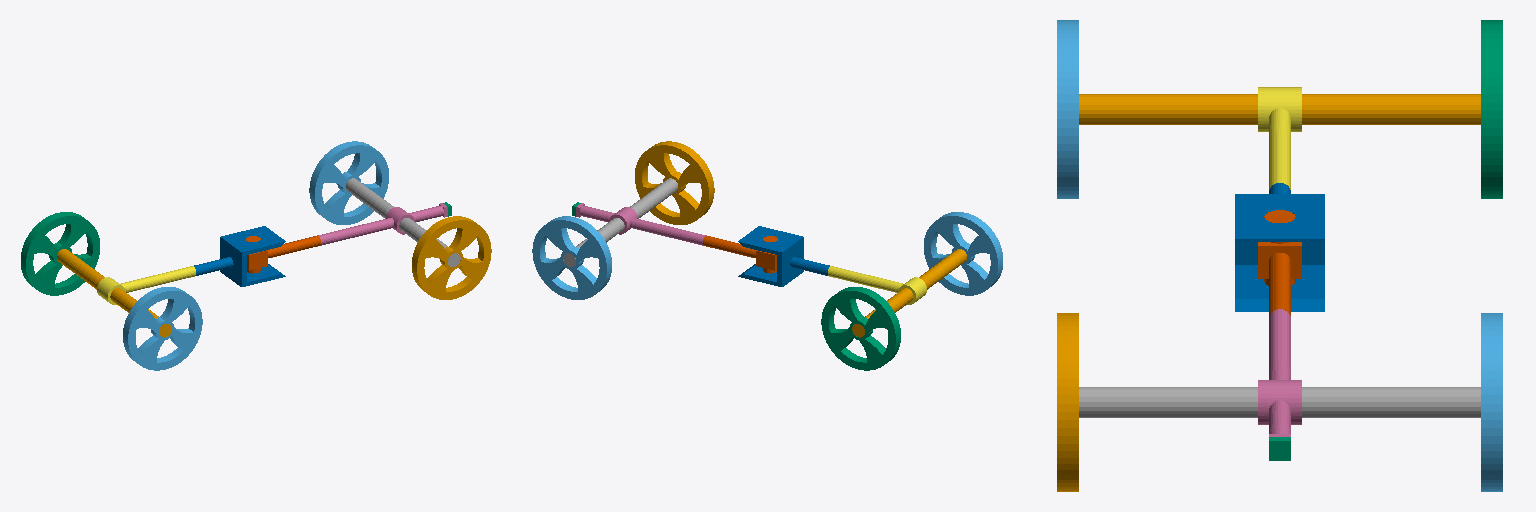
The robot description file, URDF, robot "carenv":
<?xml version="1.0" ?>
<robot name="carenv">

<material name="silver">
  <color rgba="0.700 0.700 0.700 1.000"/>
</material>

<link name="base_link">
  <inertial>
    <origin xyz="-0.7999999999999998 0.0 0.19999999999999996" rpy="0 0 0"/>
    <mass value="32.673348995497264"/>
    <inertia ixx="2.7327852960879753" iyy="0.02001242625974342" izz="2.732785296087979" ixy="1.5813857316970824e-15" iyz="-7.906928658485412e-16" ixz="8.881784197001252e-16"/>
  </inertial>
  <visual>
    <origin xyz="0 0 0" rpy="0 0 0"/>
    <geometry>
      <mesh filename="meshes/base_link.stl" scale="0.001 0.001 0.001"/>
    </geometry>
    <material name="silver"/>
    <material/>
  </visual>
  <collision>
    <origin xyz="0 0 0" rpy="0 0 0"/>
    <geometry>
      <mesh filename="meshes/base_link.stl" scale="0.001 0.001 0.001"/>
    </geometry>
  </collision>
</link>

<link name="bl1">
  <inertial>
    <origin xyz="0.0 0.02499999999999991 -8.326672684688674e-17" rpy="0 0 0"/>
    <mass value="3.6246121411945738"/>
    <inertia ixx="0.044782987106522065" iyy="0.08805571915421684" izz="0.04478298710652595" ixy="0.0" iyz="0.0" ixz="1.1102230246251565e-16"/>
  </inertial>
  <visual>
    <origin xyz="0.8 0.5 -0.2" rpy="0 0 0"/>
    <geometry>
      <mesh filename="meshes/bl1.stl" scale="0.001 0.001 0.001"/>
    </geometry>
    <material name="silver"/>
    <material/>
  </visual>
  <collision>
    <origin xyz="0.8 0.5 -0.2" rpy="0 0 0"/>
    <geometry>
      <mesh filename="meshes/bl1.stl" scale="0.001 0.001 0.001"/>
    </geometry>
  </collision>
</link>

<link name="br1">
  <inertial>
    <origin xyz="0.0 -0.025000000000000022 -8.326672684688674e-17" rpy="0 0 0"/>
    <mass value="3.6246121411945738"/>
    <inertia ixx="0.04478298710652229" iyy="0.08805571915421684" izz="0.04478298710652551" ixy="0.0" iyz="-5.551115123125783e-17" ixz="1.1102230246251565e-16"/>
  </inertial>
  <visual>
    <origin xyz="0.8 -0.5 -0.2" rpy="0 0 0"/>
    <geometry>
      <mesh filename="meshes/br1.stl" scale="0.001 0.001 0.001"/>
    </geometry>
    <material name="silver"/>
    <material/>
  </visual>
  <collision>
    <origin xyz="0.8 -0.5 -0.2" rpy="0 0 0"/>
    <geometry>
      <mesh filename="meshes/br1.stl" scale="0.001 0.001 0.001"/>
    </geometry>
  </collision>
</link>

<link name="j11">
  <inertial>
    <origin xyz="0.16055339778671573 -3.887514700933762e-08 5.551115123125783e-17" rpy="0 0 0"/>
    <mass value="8.49634453691667"/>
    <inertia ixx="0.0068831522816594215" iyy="0.19178670589433677" izz="0.19149688772306295" ixy="-5.803203460294708e-09" iyz="-2.6469779601696886e-23" ixz="-4.440892098500626e-16"/>
  </inertial>
  <visual>
    <origin xyz="0.8 -0.0 -0.2" rpy="0 0 0"/>
    <geometry>
      <mesh filename="meshes/j11.stl" scale="0.001 0.001 0.001"/>
    </geometry>
    <material name="silver"/>
    <material/>
  </visual>
  <collision>
    <origin xyz="0.8 -0.0 -0.2" rpy="0 0 0"/>
    <geometry>
      <mesh filename="meshes/j11.stl" scale="0.001 0.001 0.001"/>
    </geometry>
  </collision>
</link>

<link name="j21">
  <inertial>
    <origin xyz="0.2547657567768827 7.582384410019072e-17 2.7755575615628914e-17" rpy="0 0 0"/>
    <mass value="7.772654812516621"/>
    <inertia ixx="0.05643334857808685" iyy="0.10040470339408475" izz="0.09156811963248819" ixy="-3.058793446014534e-17" iyz="4.7148205339908604e-17" ixz="-8.326672684688674e-17"/>
  </inertial>
  <visual>
    <origin xyz="0.36 -0.0 -0.2" rpy="0 0 0"/>
    <geometry>
      <mesh filename="meshes/j21.stl" scale="0.001 0.001 0.001"/>
    </geometry>
    <material name="silver"/>
    <material/>
  </visual>
  <collision>
    <origin xyz="0.36 -0.0 -0.2" rpy="0 0 0"/>
    <geometry>
      <mesh filename="meshes/j21.stl" scale="0.001 0.001 0.001"/>
    </geometry>
  </collision>
</link>

<link name="j31">
  <inertial>
    <origin xyz="0.06641306804789343 0.0 -0.09000000000000002" rpy="0 0 0"/>
    <mass value="4.789513051054657"/>
    <inertia ixx="0.008373824415166126" iyy="0.06254572119280657" izz="0.05890534413714747" ixy="-3.929017111659049e-18" iyz="0.0" ixz="-1.3877787807814457e-17"/>
  </inertial>
  <visual>
    <origin xyz="0.04 -0.0 -0.29" rpy="0 0 0"/>
    <geometry>
      <mesh filename="meshes/j31.stl" scale="0.001 0.001 0.001"/>
    </geometry>
    <material name="silver"/>
    <material/>
  </visual>
  <collision>
    <origin xyz="0.04 -0.0 -0.29" rpy="0 0 0"/>
    <geometry>
      <mesh filename="meshes/j31.stl" scale="0.001 0.001 0.001"/>
    </geometry>
  </collision>
</link>

<link name="j41">
  <inertial>
    <origin xyz="0.3558023685884428 -3.567366458009799e-08 7.391256051647588e-09" rpy="0 0 0"/>
    <mass value="13.183187209531562"/>
    <inertia ixx="0.009096034938043895" iyy="0.4668323356889301" izz="0.4664887547424632" ixy="-7.965513185466877e-09" iyz="1.9731946766217266e-09" ixz="-1.6777332412232226e-08"/>
  </inertial>
  <visual>
    <origin xyz="-0.31 -0.0 -0.2" rpy="0 0 0"/>
    <geometry>
      <mesh filename="meshes/j41.stl" scale="0.001 0.001 0.001"/>
    </geometry>
    <material name="silver"/>
    <material/>
  </visual>
  <collision>
    <origin xyz="-0.31 -0.0 -0.2" rpy="0 0 0"/>
    <geometry>
      <mesh filename="meshes/j41.stl" scale="0.001 0.001 0.001"/>
    </geometry>
  </collision>
</link>

<link name="f_stand1">
  <inertial>
    <origin xyz="-1.1102230246251565e-16 0.05 -5.551115123125783e-17" rpy="0 0 0"/>
    <mass value="32.673348995497264"/>
    <inertia ixx="2.7327852960879753" iyy="0.02001242625974342" izz="2.7327852960879753" ixy="0.0" iyz="-7.906928658485412e-16" ixz="0.0"/>
  </inertial>
  <visual>
    <origin xyz="-0.75 0.05 -0.2" rpy="0 0 0"/>
    <geometry>
      <mesh filename="meshes/f_stand1.stl" scale="0.001 0.001 0.001"/>
    </geometry>
    <material name="silver"/>
    <material/>
  </visual>
  <collision>
    <origin xyz="-0.75 0.05 -0.2" rpy="0 0 0"/>
    <geometry>
      <mesh filename="meshes/f_stand1.stl" scale="0.001 0.001 0.001"/>
    </geometry>
  </collision>
</link>

<link name="rl1">
  <inertial>
    <origin xyz="0.0 0.02499999999999991 5.551115123125783e-17" rpy="0 0 0"/>
    <mass value="3.624612141194572"/>
    <inertia ixx="0.04478298710652173" iyy="0.0880557191542164" izz="0.04478298710652506" ixy="-2.220446049250313e-16" iyz="-5.551115123125783e-17" ixz="2.220446049250313e-16"/>
  </inertial>
  <visual>
    <origin xyz="-0.75 0.5 -0.2" rpy="0 0 0"/>
    <geometry>
      <mesh filename="meshes/rl1.stl" scale="0.001 0.001 0.001"/>
    </geometry>
    <material name="silver"/>
    <material/>
  </visual>
  <collision>
    <origin xyz="-0.75 0.5 -0.2" rpy="0 0 0"/>
    <geometry>
      <mesh filename="meshes/rl1.stl" scale="0.001 0.001 0.001"/>
    </geometry>
  </collision>
</link>

<link name="rr1">
  <inertial>
    <origin xyz="0.0 -0.02499999999999991 5.551115123125783e-17" rpy="0 0 0"/>
    <mass value="3.624612141194572"/>
    <inertia ixx="0.04478298710652173" iyy="0.0880557191542164" izz="0.04478298710652506" ixy="2.220446049250313e-16" iyz="1.1102230246251565e-16" ixz="2.220446049250313e-16"/>
  </inertial>
  <visual>
    <origin xyz="-0.75 -0.5 -0.2" rpy="0 0 0"/>
    <geometry>
      <mesh filename="meshes/rr1.stl" scale="0.001 0.001 0.001"/>
    </geometry>
    <material name="silver"/>
    <material/>
  </visual>
  <collision>
    <origin xyz="-0.75 -0.5 -0.2" rpy="0 0 0"/>
    <geometry>
      <mesh filename="meshes/rr1.stl" scale="0.001 0.001 0.001"/>
    </geometry>
  </collision>
</link>

<link name="cam1">
  <inertial>
    <origin xyz="0.010000000000000009 0.0 0.0" rpy="0 0 0"/>
    <mass value="0.13499999999999998"/>
    <inertia ixx="5.6249999999999876e-05" iyy="3.2624999999980586e-05" izz="3.26250000000361e-05" ixy="0.0" iyz="0.0" ixz="3.469446951953614e-18"/>
  </inertial>
  <visual>
    <origin xyz="-0.99 -0.0 -0.2" rpy="0 0 0"/>
    <geometry>
      <mesh filename="meshes/cam1.stl" scale="0.001 0.001 0.001"/>
    </geometry>
    <material name="silver"/>
    <material/>
  </visual>
  <collision>
    <origin xyz="-0.99 -0.0 -0.2" rpy="0 0 0"/>
    <geometry>
      <mesh filename="meshes/cam1.stl" scale="0.001 0.001 0.001"/>
    </geometry>
  </collision>
</link>

<joint name="bl" type="fixed">
  <origin xyz="-0.8 -0.5 0.2" rpy="0 0 0"/>
  <parent link="base_link"/>
  <child link="bl1"/>
</joint>

<joint name="br" type="fixed">
  <origin xyz="-0.8 0.5 0.2" rpy="0 0 0"/>
  <parent link="base_link"/>
  <child link="br1"/>
</joint>

<joint name="base_wheel" type="continuous">
  <origin xyz="-0.8 0.0 0.2" rpy="0 0 0"/>
  <parent link="base_link"/>
  <child link="j11"/>
  <axis xyz="0.0 1.0 0.0"/>
</joint>
<transmission name="base_wheel_tran">
  <type>transmission_interface/SimpleTransmission</type>
  <joint name="base_wheel">
    <hardwareInterface>PositionJointInterface</hardwareInterface>
  </joint>
  <actuator name="base_wheel_actr">
    <hardwareInterface>PositionJointInterface</hardwareInterface>
    <mechanicalReduction>1</mechanicalReduction>
  </actuator>
</transmission>

<joint name="j1" type="fixed">
  <origin xyz="0.44 0.0 0.0" rpy="0 0 0"/>
  <parent link="j11"/>
  <child link="j21"/>
</joint>

<joint name="steering" type="revolute">
  <origin xyz="0.32 0.0 0.09" rpy="0 0 0"/>
  <parent link="j21"/>
  <child link="j31"/>
  <axis xyz="0.0 0.0 -1.0"/>
  <limit upper="0.785398" lower="-0.785398" effort="100" velocity="100"/>
</joint>
<transmission name="steering_tran">
  <type>transmission_interface/SimpleTransmission</type>
  <joint name="steering">
    <hardwareInterface>PositionJointInterface</hardwareInterface>
  </joint>
  <actuator name="steering_actr">
    <hardwareInterface>PositionJointInterface</hardwareInterface>
    <mechanicalReduction>1</mechanicalReduction>
  </actuator>
</transmission>

<joint name="j2" type="fixed">
  <origin xyz="0.35 0.0 -0.09" rpy="0 0 0"/>
  <parent link="j31"/>
  <child link="j41"/>
</joint>

<joint name="front_whell" type="continuous">
  <origin xyz="0.44 -0.05 0.0" rpy="0 0 0"/>
  <parent link="j41"/>
  <child link="f_stand1"/>
  <axis xyz="0.0 1.0 0.0"/>
</joint>
<transmission name="front_whell_tran">
  <type>transmission_interface/SimpleTransmission</type>
  <joint name="front_whell">
    <hardwareInterface>PositionJointInterface</hardwareInterface>
  </joint>
  <actuator name="front_whell_actr">
    <hardwareInterface>PositionJointInterface</hardwareInterface>
    <mechanicalReduction>1</mechanicalReduction>
  </actuator>
</transmission>

<joint name="fl" type="fixed">
  <origin xyz="0.0 -0.45 0.0" rpy="0 0 0"/>
  <parent link="f_stand1"/>
  <child link="rl1"/>
</joint>

<joint name="fr" type="fixed">
  <origin xyz="0.0 0.55 0.0" rpy="0 0 0"/>
  <parent link="f_stand1"/>
  <child link="rr1"/>
</joint>

<joint name="cam_sensor" type="fixed">
  <origin xyz="0.68 0.0 0.0" rpy="0 0 0"/>
  <parent link="j41"/>
  <child link="cam1"/>
</joint>

</robot>

--- What the picture shows (computed from the rendered views, not written in the file) ---
The picture shows the robot from 3 angles, left to right: view 1: azimuth 30°, elevation 25°; view 2: azimuth 150°, elevation 25°; view 3: azimuth 270°, elevation 25°; orthographic projection.
Robot: carenv — 11 links, 10 joints (1 revolute, 2 continuous, 7 fixed); root link base_link; default pose: all joints at 0.
Links seen in each view (by area): view 1: bl1, rl1, rr1, br1, j21, j41, f_stand1, base_link, j11, j31; view 2: br1, rr1, rl1, bl1, j21, j41, f_stand1, base_link, j11, j31; view 3: base_link, f_stand1, j21, bl1, br1, rl1, rr1, j41, j11, j31, cam1.
Link boxes in pixels (x1=…): bl1: x1=123, y1=287, x2=202, y2=370; rl1: x1=412, y1=216, x2=491, y2=299; rr1: x1=309, y1=141, x2=388, y2=224; br1: x1=21, y1=212, x2=99, y2=295; j21: x1=194, y1=226, x2=285, y2=286; j41: x1=317, y1=203, x2=447, y2=245; f_stand1: x1=346, y1=178, x2=460, y2=266; base_link: x1=57, y1=249, x2=171, y2=337; j11: x1=97, y1=266, x2=195, y2=304; j31: x1=246, y1=236, x2=320, y2=273; br1: x1=821, y1=287, x2=900, y2=370; rr1: x1=532, y1=216, x2=611, y2=299; rl1: x1=635, y1=141, x2=714, y2=224; bl1: x1=924, y1=212, x2=1002, y2=295; j21: x1=738, y1=226, x2=829, y2=286; j41: x1=576, y1=203, x2=706, y2=245; f_stand1: x1=563, y1=178, x2=677, y2=266; base_link: x1=852, y1=249, x2=966, y2=337; j11: x1=828, y1=266, x2=926, y2=304; j31: x1=703, y1=236, x2=777, y2=273; base_link: x1=1079, y1=94, x2=1480, y2=124; f_stand1: x1=1079, y1=387, x2=1480, y2=417; j21: x1=1235, y1=183, x2=1324, y2=311; bl1: x1=1057, y1=20, x2=1078, y2=198; br1: x1=1481, y1=20, x2=1502, y2=198; rl1: x1=1057, y1=313, x2=1078, y2=491; rr1: x1=1481, y1=313, x2=1502, y2=491; j41: x1=1258, y1=309, x2=1301, y2=436; j11: x1=1258, y1=87, x2=1301, y2=189; j31: x1=1258, y1=210, x2=1301, y2=315; cam1: x1=1269, y1=437, x2=1290, y2=460.
Bounding box of the posed robot: 2.01 × 1 × 0.3999 m (x, y, z).
Meshes: 11 distinct files referenced, 11 mesh visuals loaded (11 binary STL).